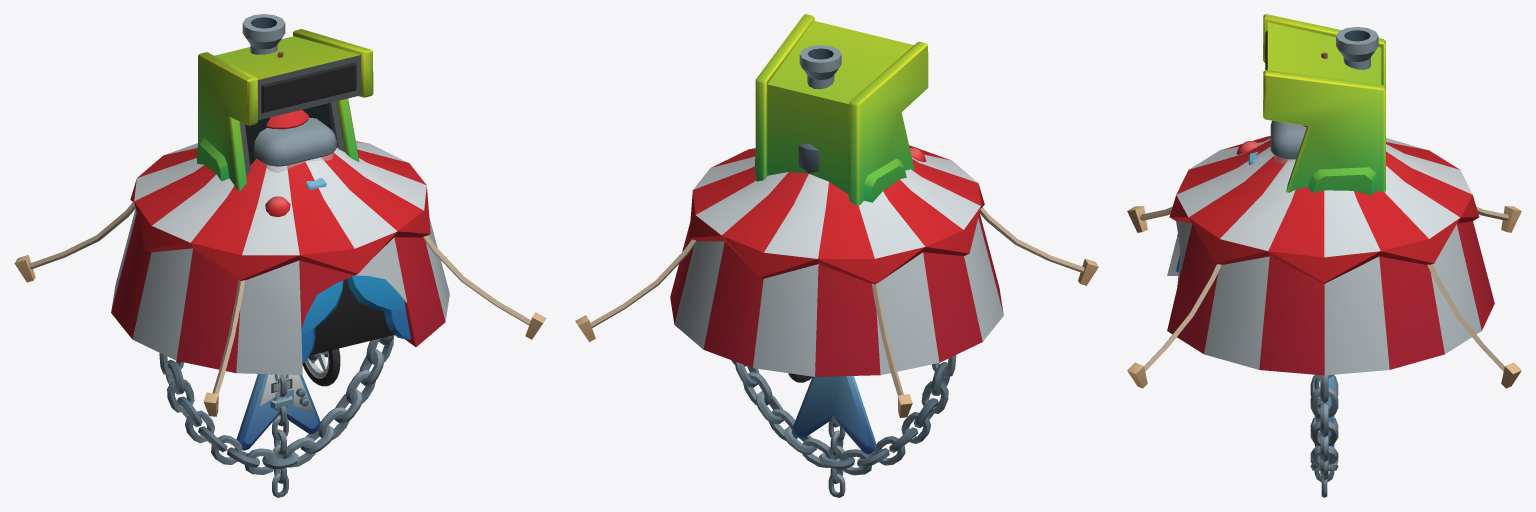
Rendered from mixedbag.glb.
3 renders of one model, left to right at view 1: azimuth 30°, elevation 25°; view 2: azimuth 150°, elevation 25°; view 3: azimuth 270°, elevation 25°, orthographic.
Parts seen in each view (by area): view 1: circus_tent, arcademachine_A, chain_hanging_B, guitar_A, slushy_machine_blue, woodstove, chain_hanging_A, bicycle; view 2: circus_tent, arcademachine_A, chain_hanging_B, guitar_A, woodstove, chain_hanging_A; view 3: circus_tent, arcademachine_A, chain_hanging_B, woodstove, slushy_machine_blue.
Part boxes in pixels (x1,y1,x2,y2): circus_tent: (14, 51, 546, 416); arcademachine_A: (197, 29, 373, 216); chain_hanging_B: (159, 335, 394, 474); guitar_A: (236, 374, 320, 450); slushy_machine_blue: (254, 117, 336, 190); woodstove: (242, 14, 285, 54); chain_hanging_A: (272, 374, 288, 497); bicycle: (302, 348, 340, 386); circus_tent: (575, 145, 1098, 417); arcademachine_A: (755, 14, 928, 205); chain_hanging_B: (731, 355, 956, 475); guitar_A: (793, 376, 876, 454); woodstove: (798, 45, 841, 173); chain_hanging_A: (828, 415, 845, 497); circus_tent: (1127, 52, 1521, 388); arcademachine_A: (1236, 14, 1385, 195); chain_hanging_B: (1310, 374, 1338, 480); woodstove: (1336, 27, 1378, 69); slushy_machine_blue: (1248, 120, 1306, 164).
Size of the model in its own units: 3.48 by 4.48 by 3.48.
Materials: 2 (1 with a texture image).
